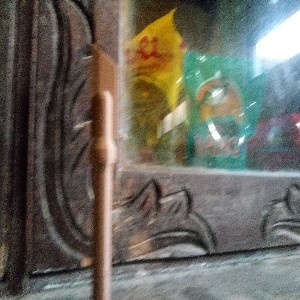cutter: (90, 41, 121, 300)
